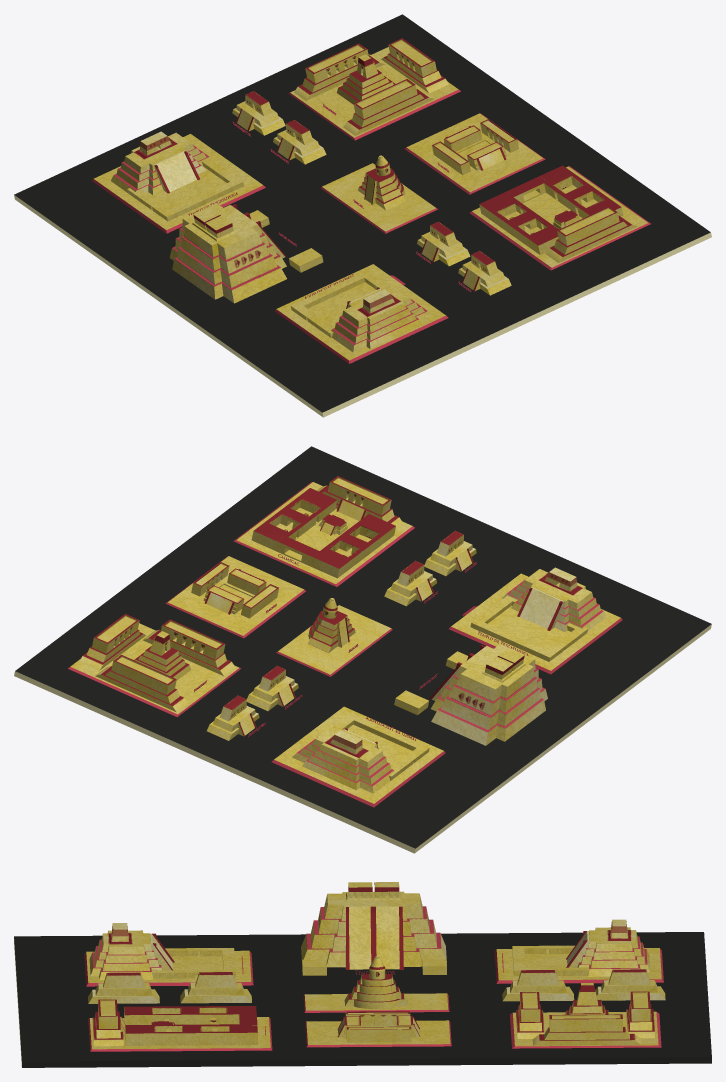
The model's file is tenochtitlan.glb.
The picture shows the model from 3 angles, top to bottom: view 1: azimuth 30°, elevation 25°; view 2: azimuth 150°, elevation 25°; view 3: azimuth 270°, elevation 25°; orthographic projection. The views are drawn at different scales.
Parts seen in each view (by area): view 1: Object_8, Object_18, Object_19, Object_4, Object_20, Object_15, Object_22, Object_17, Object_21, Object_12, Object_11, Object_6 (+6 smaller); view 2: Object_8, Object_18, Object_19, Object_4, Object_20, Object_15, Object_22, Object_17, Object_21, Object_12, Object_11, Object_6 (+5 smaller); view 3: Object_8, Object_18, Object_4, Object_20, Object_19, Object_15, Object_22, Object_12, Object_21, Object_11, Object_10, Object_6 (+5 smaller).
Boxes of the visible parts, x1,y1,x2,y2 form: Object_8: (14,14,710,412); Object_18: (94,47,647,360); Object_19: (111,131,432,352); Object_4: (169,203,286,303); Object_20: (232,91,511,295); Object_15: (479,165,623,254); Object_22: (92,89,471,363); Object_17: (14,195,711,417); Object_21: (305,38,436,118); Object_12: (294,53,448,135); Object_11: (358,155,405,210); Object_6: (336,54,395,104); Object_8: (15,446,711,848); Object_18: (70,482,620,803); Object_19: (292,567,606,793); Object_4: (430,644,547,745); Object_20: (207,530,476,740); Object_15: (251,488,395,578); Object_22: (68,562,622,807); Object_17: (14,624,711,853); Object_21: (92,614,225,694); Object_12: (79,629,235,712); Object_11: (308,598,355,653); Object_6: (134,631,191,680); Object_8: (14,932,711,1067); Object_18: (86,945,661,1049); Object_4: (301,882,446,969); Object_20: (88,969,665,1003); Object_19: (89,919,650,980); Object_15: (124,1006,257,1045); Object_22: (84,906,663,1048); Object_12: (516,1004,654,1045); Object_21: (520,991,650,1031); Object_11: (344,956,407,1008); Object_10: (345,1011,411,1042); Object_6: (565,983,609,1014).
Bounding box in the file's own units: 2.89 × 0.7363 × 3.8.
21 materials, 17 textured.
